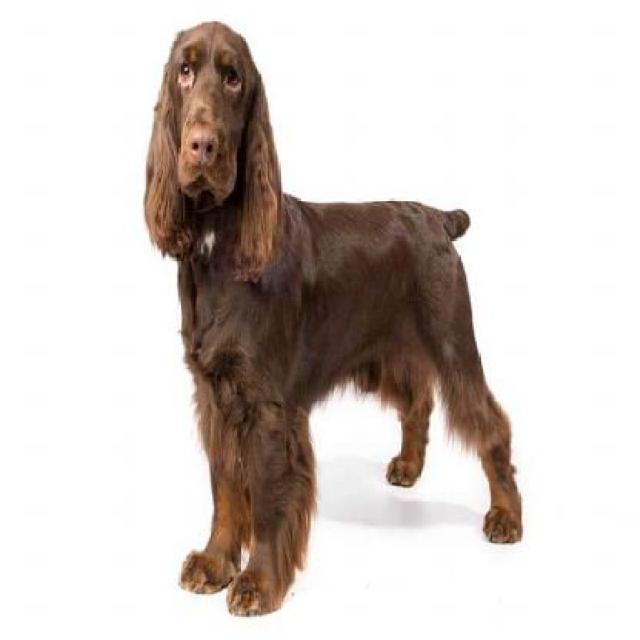animals: (135, 11, 533, 618)
